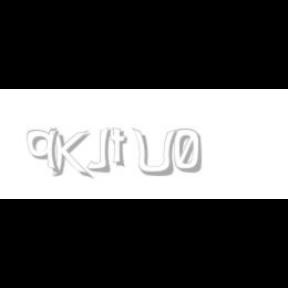0: (174, 128, 204, 174)
J: (86, 128, 112, 172)
K: (50, 128, 90, 180)
U: (132, 128, 176, 178)
q: (26, 128, 62, 176)
t: (110, 128, 132, 168)
